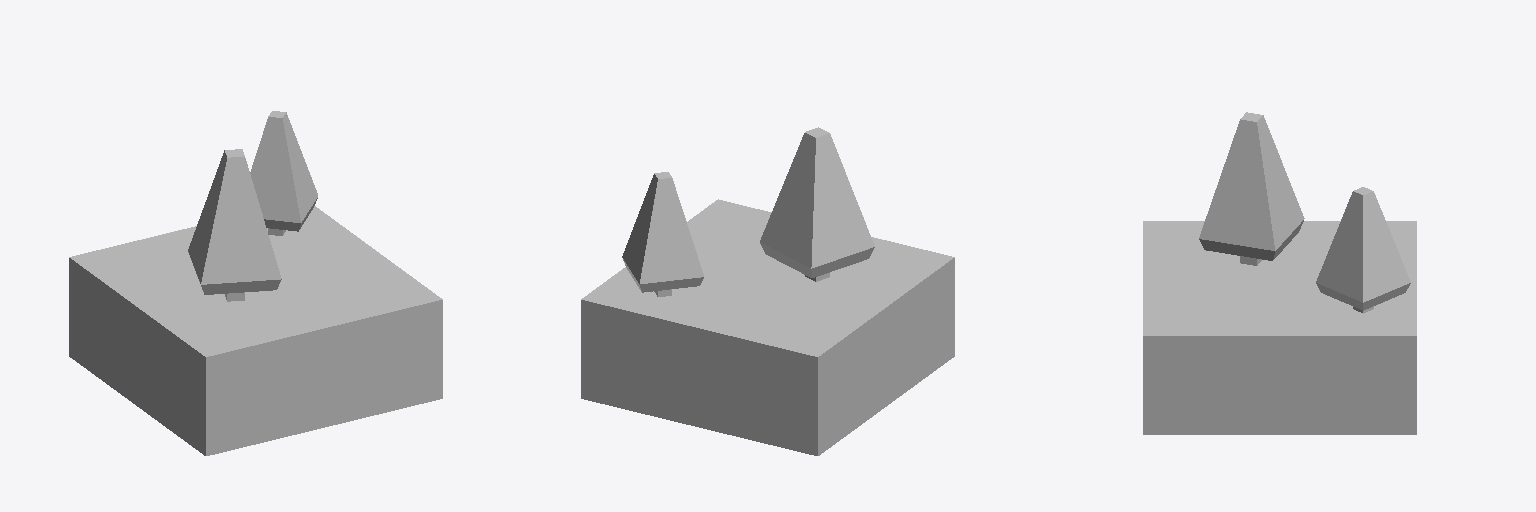
The model's file is tile_003.obj.
3 views of the same model, side by side, from view 1: azimuth 30°, elevation 25°; view 2: azimuth 150°, elevation 25°; view 3: azimuth 270°, elevation 25° (orthographic).
Visible parts, largest first — view 1: tile_003, Component#2; view 2: tile_003, Component#2; view 3: tile_003, Component#2.
Boxes of the visible parts, <box> form: tile_003: <box>69,206,442,455</box>; Component#2: <box>188,111,317,301</box>; tile_003: <box>581,199,954,455</box>; Component#2: <box>622,127,874,296</box>; tile_003: <box>1143,221,1416,434</box>; Component#2: <box>1199,112,1410,313</box>.
Size of the model in its own units: 1 by 0.9802 by 1.